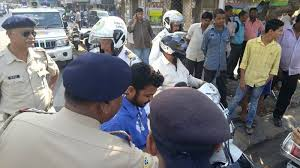helmet: (87, 19, 137, 60), (157, 9, 199, 40), (155, 26, 192, 56)
